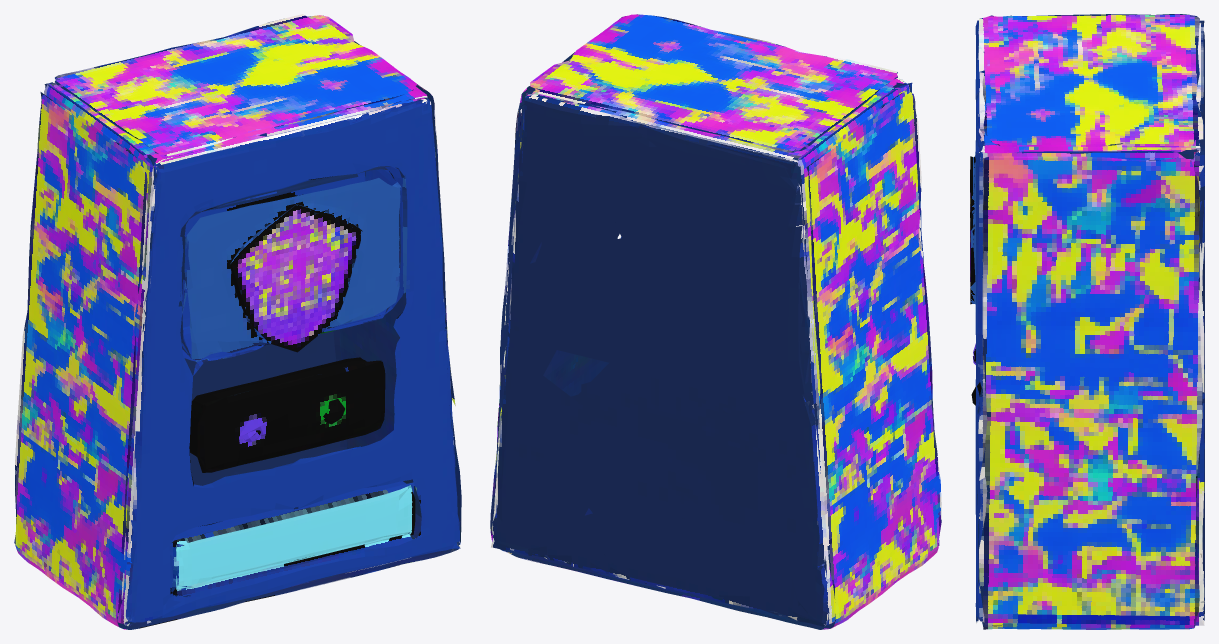
The model's file is Arcade_ShieldParry_QuadRetro.glb.
3 renders of one model, left to right at view 1: azimuth 30°, elevation 25°; view 2: azimuth 150°, elevation 25°; view 3: azimuth 270°, elevation 25°, orthographic.
Parts seen in each view (by area): view 1: Arcade_ShieldParry_QuadRemesh; view 2: Arcade_ShieldParry_QuadRemesh; view 3: Arcade_ShieldParry_QuadRemesh.
Part boxes in pixels (x1,y1,x2,y2): Arcade_ShieldParry_QuadRemesh: [14, 14, 461, 629]; Arcade_ShieldParry_QuadRemesh: [490, 14, 941, 629]; Arcade_ShieldParry_QuadRemesh: [970, 14, 1204, 629].
Size of the model in its own units: 1.53 by 2 by 0.9068.
Materials: 1 (1 with a texture image).
